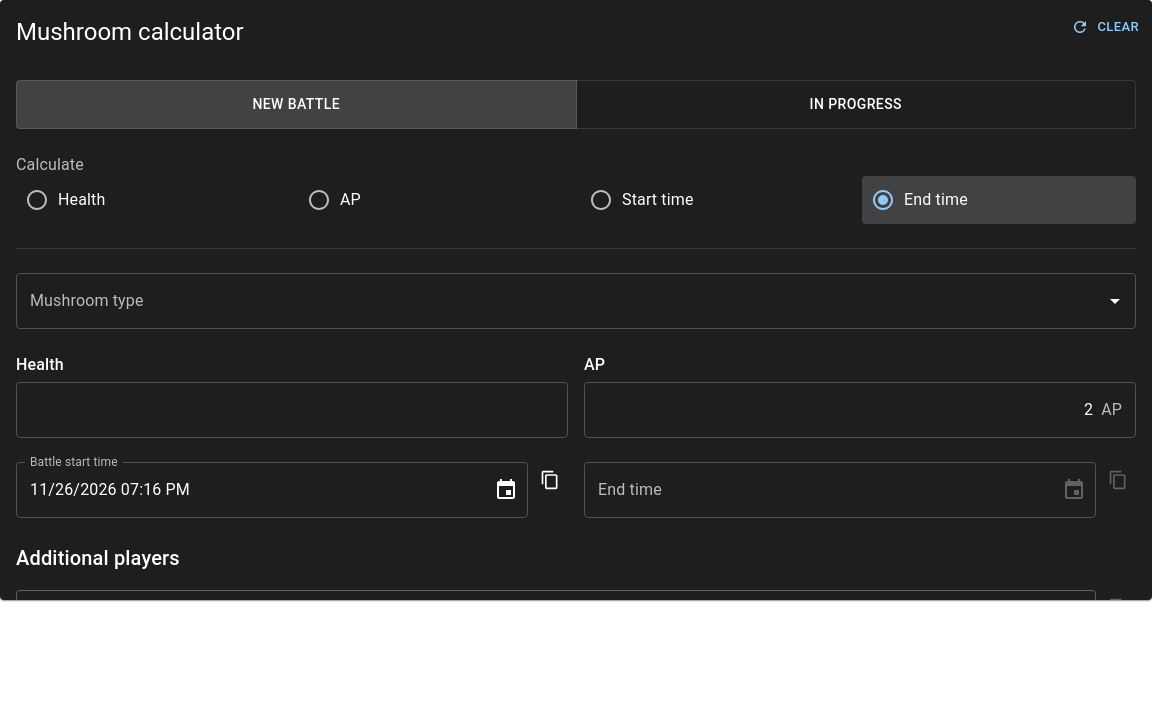
Test: MushCalcRadio › fills full health and the initial minimum AP from one mushroom selection
Type "Normal Fire" into the dropdown labelled "Mushroom type" at coordinates (561, 300), box [25,282,1097,320]
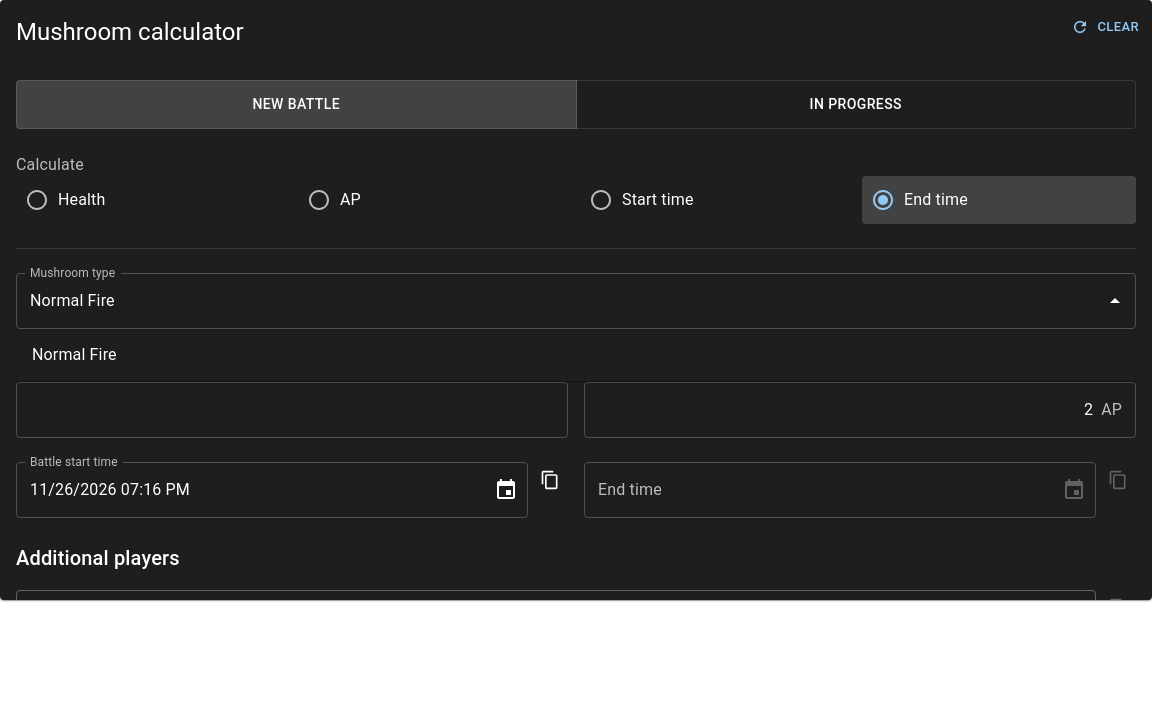
Click the option "Normal Fire" at coordinates (74, 354), box [32,345,117,364]
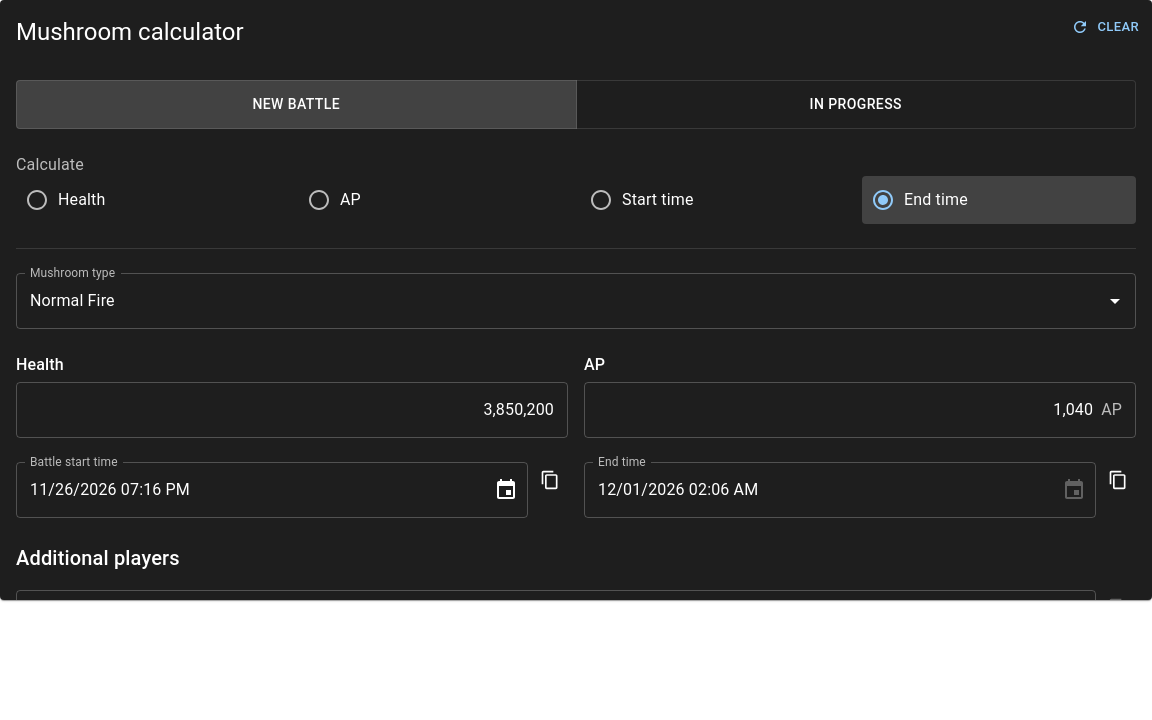
Now the field labelled "Health" holds "3,850,200", box [16,382,568,438]
Now the field labelled "AP" holds "1,040", box [584,382,1093,438]
